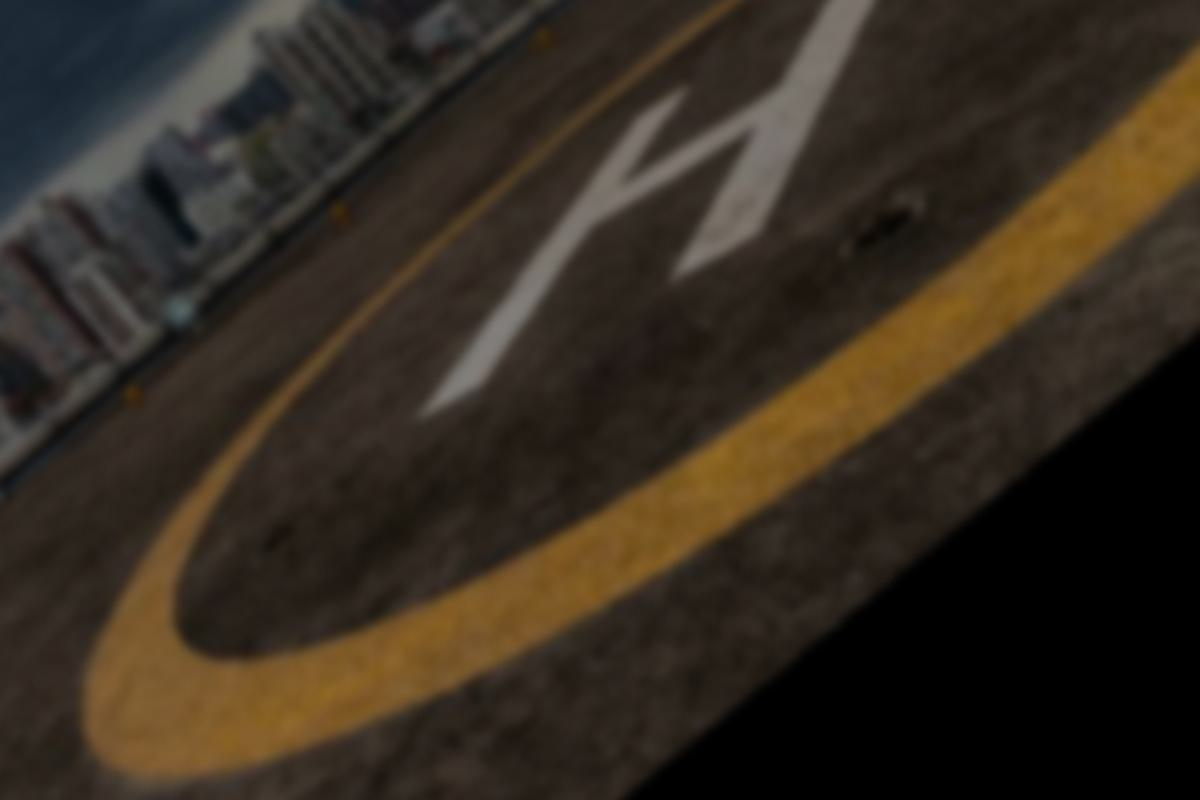Apron: (75, 5, 1200, 790)
